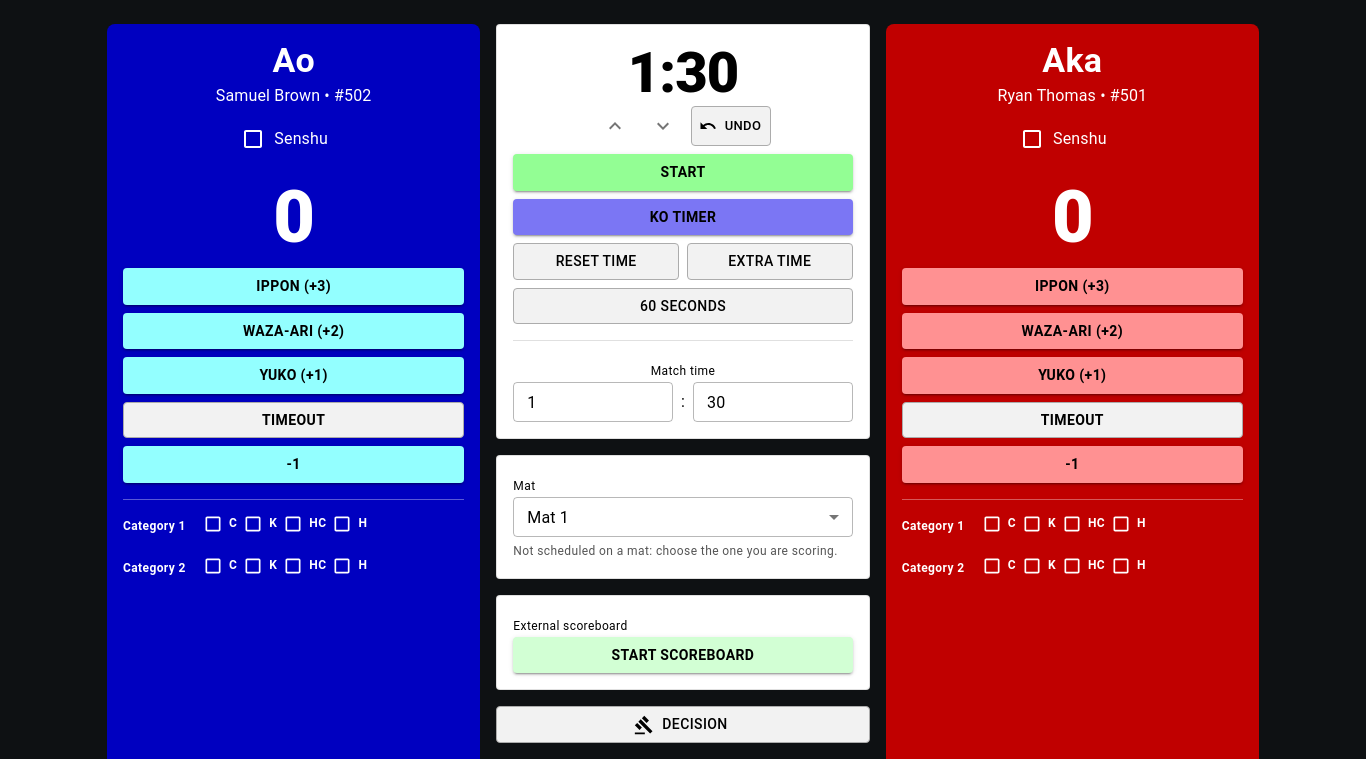
it: console undo and referee decisions › undoes a mis-tapped ippon back to zero, which -1 could not do
Click the button "Ippon (+3)" below "Samuel Brown". click: {"x": 294, "y": 286}
box: [123,268,464,304]
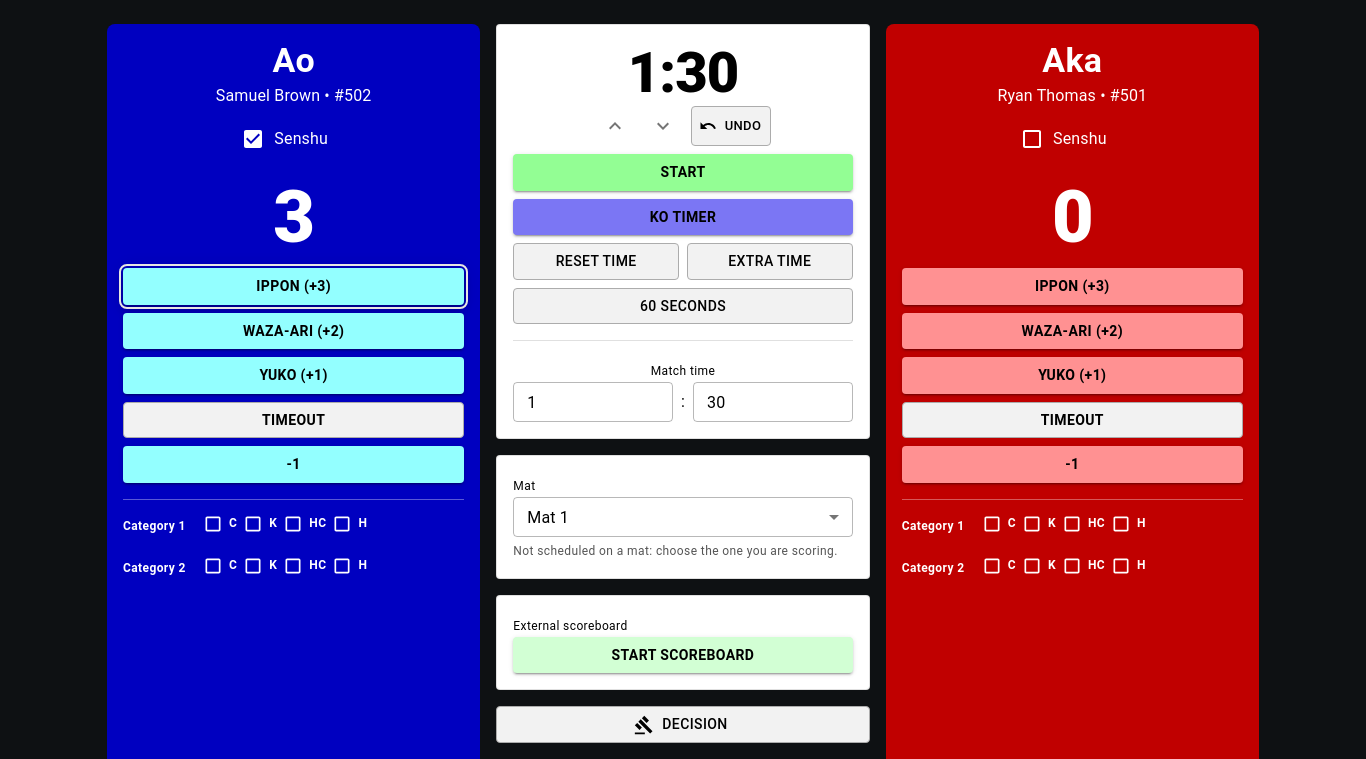
Expected: the heading "3" is shown, [273,175,314,260]
Click the button "Undo". click: {"x": 731, "y": 126}
box: [691,106,771,146]
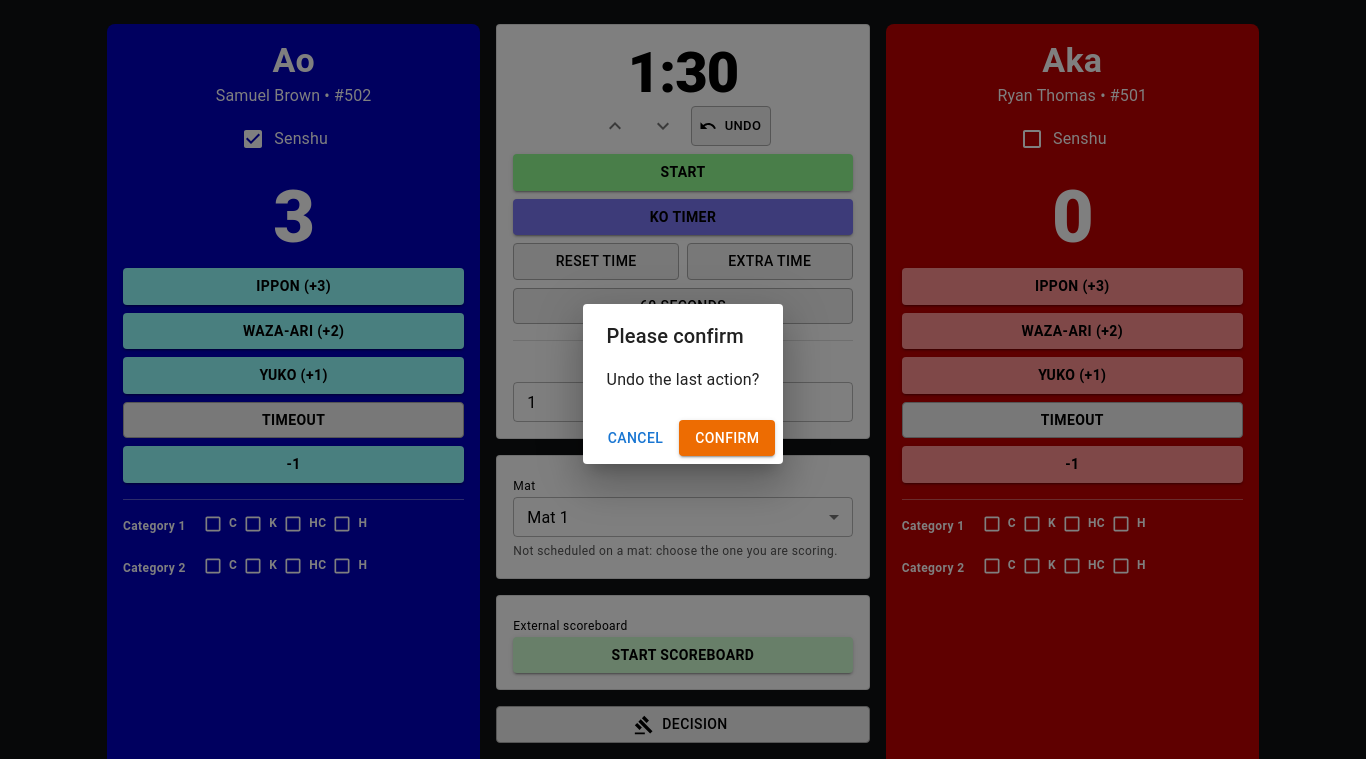
Undo asks first: a stray tap must not wipe a score.
Click the button "Confirm". click: {"x": 727, "y": 438}
box: [679,420,775,456]
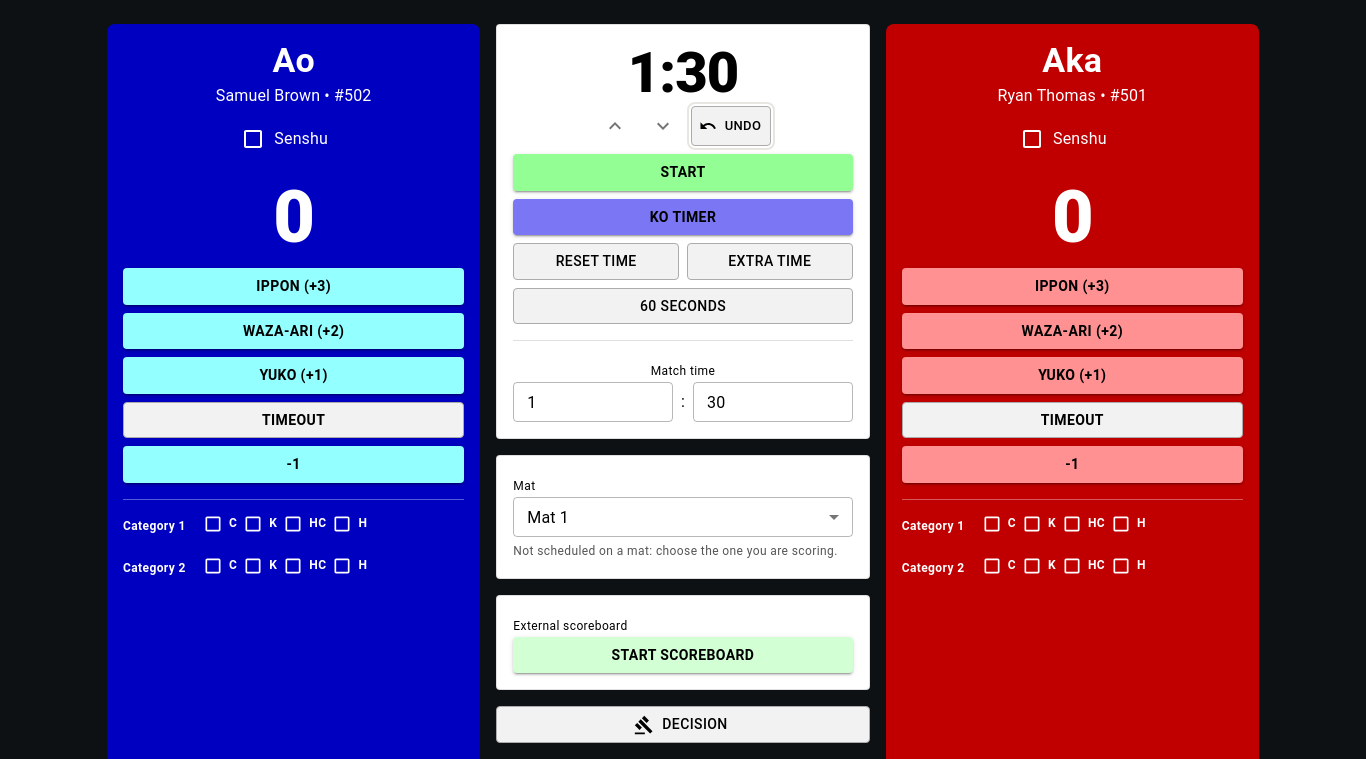
Expected: the heading "0" below "Samuel Brown" is shown, [273,175,314,260]
